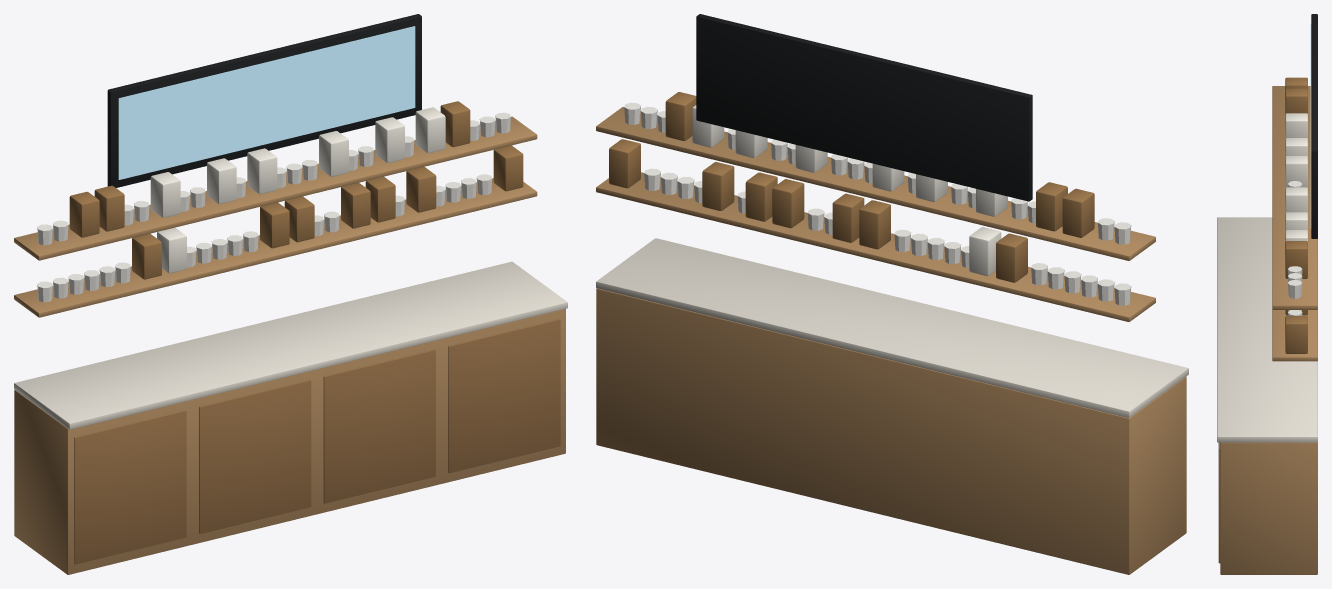
Rendered from vantage_cafe_back.glb.
3 views of the same model, side by side, from view 1: azimuth 30°, elevation 25°; view 2: azimuth 150°, elevation 25°; view 3: azimuth 270°, elevation 25° (orthographic). The views are drawn at different scales.
Visible parts, largest first — view 1: vantage_cafe_back; view 2: vantage_cafe_back; view 3: vantage_cafe_back.
Part boxes in pixels (<box>): vantage_cafe_back: <box>14,14,567,574</box>; vantage_cafe_back: <box>596,14,1188,574</box>; vantage_cafe_back: <box>1217,14,1317,574</box>.
Size of the model in its own units: 3.2 by 2.6 by 0.62.
